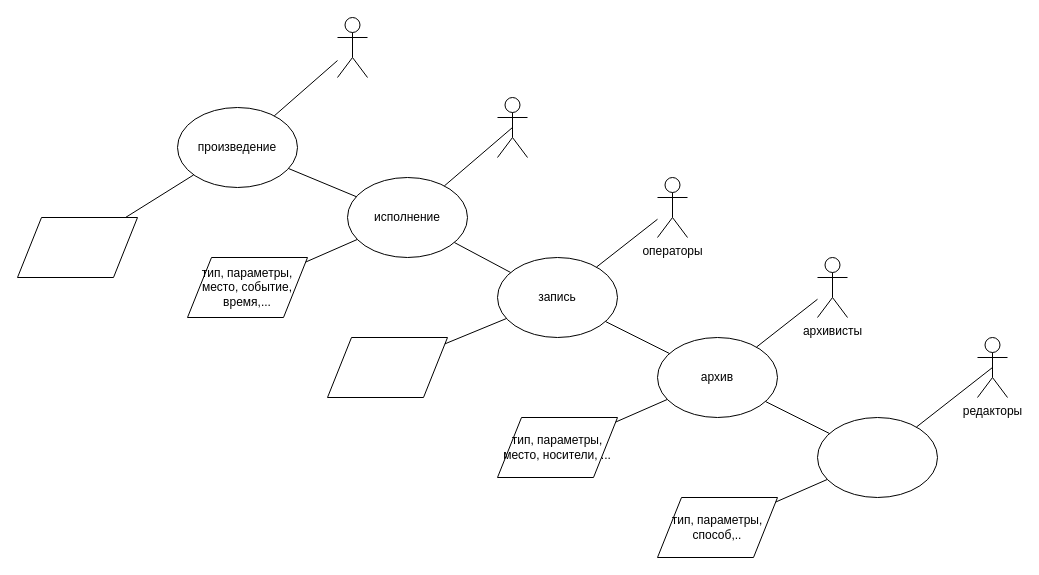
Image size: 1039x575. Some labels were removed from this diagram. Here are the shapes that lost their labels. From the top down, the box of each, then its label:
(336, 16, 368, 78): авторы
(496, 96, 528, 158): исполнители
(16, 216, 138, 278): тип, параметры,...
(326, 336, 448, 398): тип, параметры, длительность, качество,...
(816, 416, 938, 498): использование
